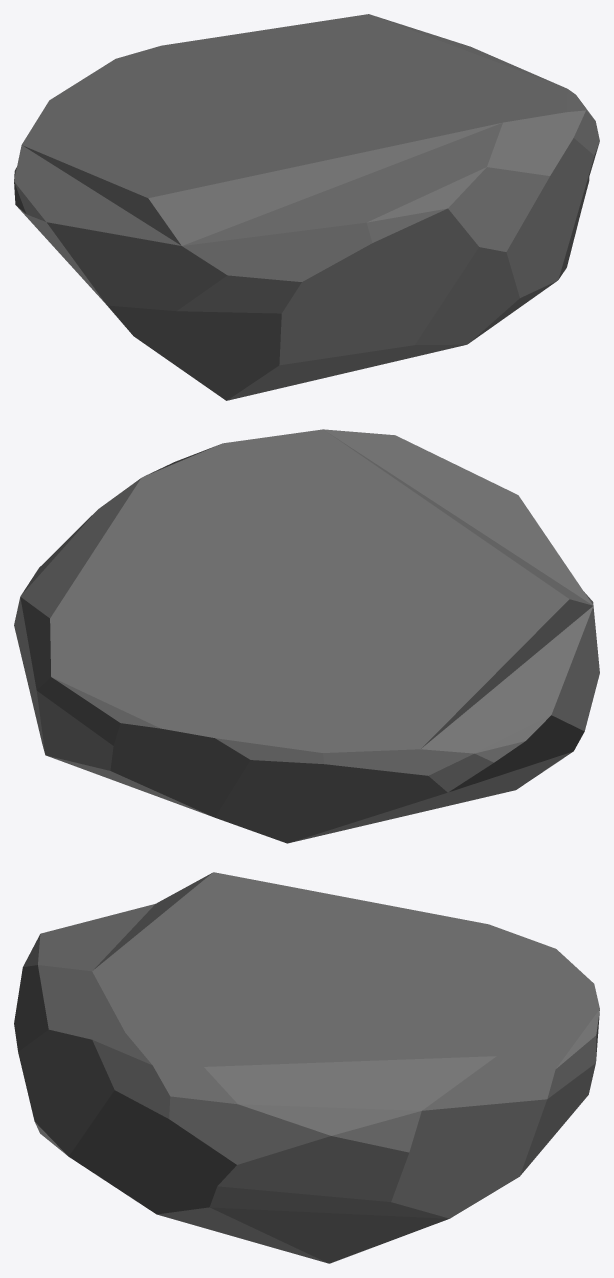
The model's file is EM_Rock01a.fbx.
3 renders of one model, top to bottom at view 1: azimuth 30°, elevation 25°; view 2: azimuth 150°, elevation 25°; view 3: azimuth 270°, elevation 25°, orthographic. The views are drawn at different scales.
Parts seen in each view (by area): view 1: EM_Rock01a_LOD0; view 2: EM_Rock01a_LOD0; view 3: EM_Rock01a_LOD0.
Boxes of the visible parts, left/top/right/bottom form: EM_Rock01a_LOD0: left=14, top=14, right=599, bottom=400; EM_Rock01a_LOD0: left=14, top=429, right=599, bottom=843; EM_Rock01a_LOD0: left=14, top=872, right=599, bottom=1263.
Size of what is drawn, in the model's own units: 1.28 by 0.6332 by 1.29.
